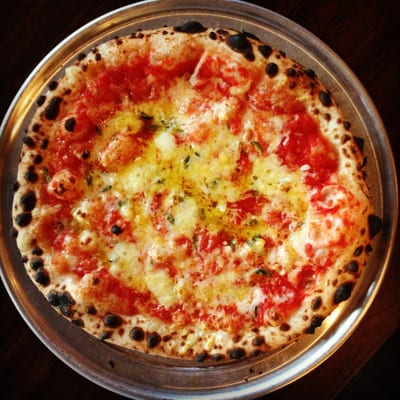sandwich: (2, 5, 388, 388)
